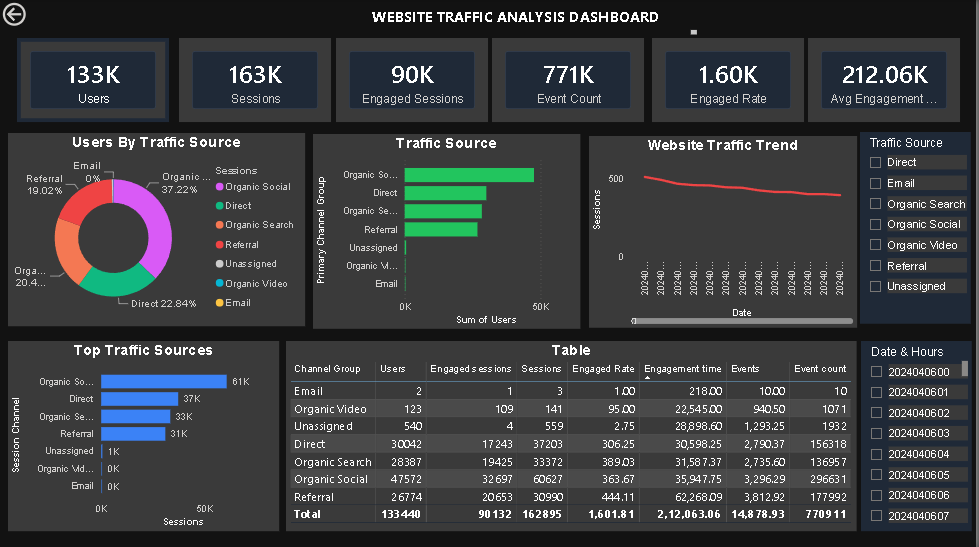

What the dashboard file says about the page in this screenshot:
{"tool":"powerbi","page":{"name":"Page 1","canvas":[1280,720],"ordinal":0},"visuals":[{"type":"cardVisual","fields":{"Data":["data-export (1).Total Users"]},"box":[23.9,50.5,199.4,110.3],"z":0},{"type":"cardVisual","fields":{"Data":["Sum(data-export (1).Sessions)"]},"box":[235.3,50.5,199.4,110.3],"z":1000},{"type":"cardVisual","title":"TOtal Engagement Sessions","fields":{"Data":["Sum(data-export (1).Engaged sessions)"]},"box":[441.3,50.5,199.4,110.3],"z":2000},{"type":"cardVisual","fields":{"Data":["Sum(data-export (1).Event count)"]},"box":[646,50.5,199.4,110.3],"z":3000},{"type":"cardVisual","fields":{"Data":["Sum(data-export (1).Engagement rate)"]},"box":[854.7,50.5,199.4,110.3],"z":4000},{"type":"cardVisual","fields":{"Data":["Sum(data-export (1).Average engagement time per session)"]},"box":[1059.4,50.5,199.4,110.3],"z":5000},{"type":"donutChart","title":"Users By Traffic Source","fields":{"Category":["data-export (1).Session primary channel group (Default channel group)"],"Y":["Sum(data-export (1).Sessions)"]},"box":[11.8,175.4,388.8,252.7],"z":6000},{"type":"clusteredBarChart","title":"Traffic Source","fields":{"Category":["data-export (1).Session primary channel group (Default channel group)"],"Y":["Sum(data-export (1).Users)"]},"box":[411.1,176.7,349.5,255.3],"z":7000},{"type":"lineChart","title":"Website Traffic Trend","fields":{"Category":["data-export (1).Date + hour (YYYYMMDDHH)"],"Y":["Sum(data-export (1).Sessions)"]},"box":[772.4,179.3,350.8,251.3],"z":8000},{"type":"clusteredBarChart","title":"Top Traffic Sources","fields":{"Category":["data-export (1).Session primary channel group (Default channel group)"],"Y":["Sum(data-export (1).Sessions)"]},"box":[11.8,447.7,354.8,248.7],"z":9000},{"type":"tableEx","title":"Table","fields":{"Values":["data-export (1).Session primary channel group (Default channel group)","Sum(data-export (1).Users)","Sum(data-export (1).Engaged sessions)","Sum(data-export (1).Sessions)","Sum(data-export (1).Engagement rate)","Sum(data-export (1).Average engagement time per session)","Sum(data-export (1).Events per session)","Sum(data-export (1).Event count)"]},"box":[376.2,447.9,747,248.6],"z":10000},{"type":"actionButton","box":[0,0,100,40],"z":11000},{"type":"slicer","fields":{"Values":["data-export (1).Session primary channel group (Default channel group)"]},"box":[1127.1,174.1,145.3,251.3],"z":12000},{"type":"slicer","fields":{"Values":["data-export (1).Date + hour (YYYYMMDDHH)"]},"box":[1128.5,447.9,144.9,248.6],"z":13000},{"type":"textbox","title":"WEBSITE TRAFFIC ANALYSIS DASHBOARD ","box":[434.6,10.5,484.4,40.6],"z":14000}]}

Visuals, with their boxes in screenshot pixels (x1, y1, x2, y2), scaled from the page's 1280x720 canvas onto the 979x547 screenshot:
cardVisual - data-export (1).Total Users: [18, 38, 171, 122]
cardVisual - Sum(data-export (1).Sessions): [180, 38, 332, 122]
"TOtal Engagement Sessions" cardVisual: [338, 38, 490, 122]
cardVisual - Sum(data-export (1).Event count): [494, 38, 647, 122]
cardVisual - Sum(data-export (1).Engagement rate): [654, 38, 806, 122]
cardVisual - Sum(data-export (1).Average engagement time per session): [810, 38, 963, 122]
"Users By Traffic Source" donutChart: [9, 133, 306, 325]
"Traffic Source" clusteredBarChart: [314, 134, 582, 328]
"Website Traffic Trend" lineChart: [591, 136, 859, 327]
"Top Traffic Sources" clusteredBarChart: [9, 340, 280, 529]
"Table" tableEx: [288, 340, 859, 529]
actionButton: [0, 0, 76, 30]
slicer - data-export (1).Session primary channel group (Default channel group): [862, 132, 973, 323]
slicer - data-export (1).Date + hour (YYYYMMDDHH): [863, 340, 974, 529]
"WEBSITE TRAFFIC ANALYSIS DASHBOARD " textbox: [332, 8, 703, 39]
